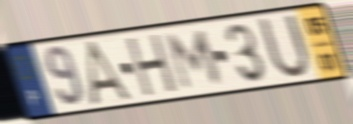3: (225, 21, 266, 85)
9: (42, 43, 87, 110)
A: (85, 37, 139, 107)
H: (125, 30, 180, 100)
M: (165, 29, 225, 93)
U: (255, 12, 314, 83)
